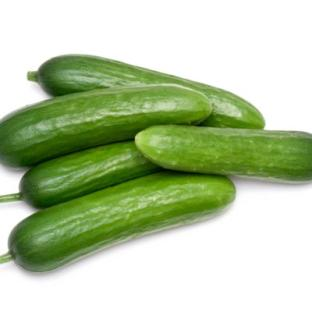Cucumber: (0, 172, 235, 272), (28, 55, 265, 128), (0, 86, 211, 166), (0, 141, 161, 208), (136, 126, 311, 181)
